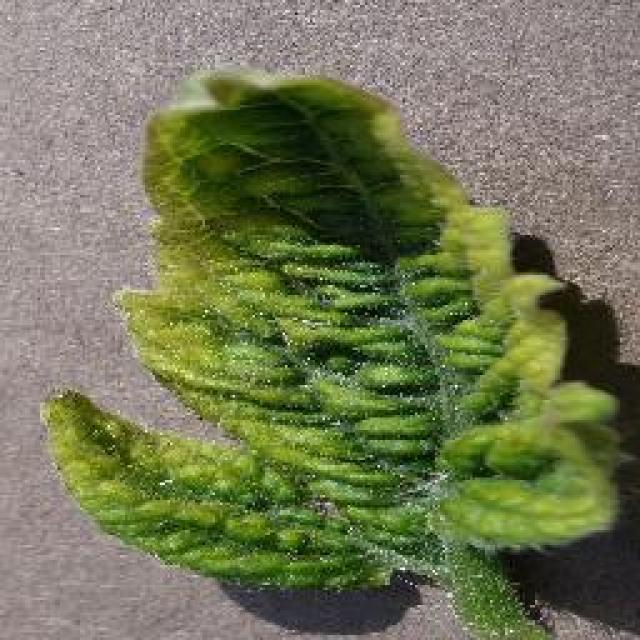Tomato yellow virus leaf: (39, 51, 632, 594)
